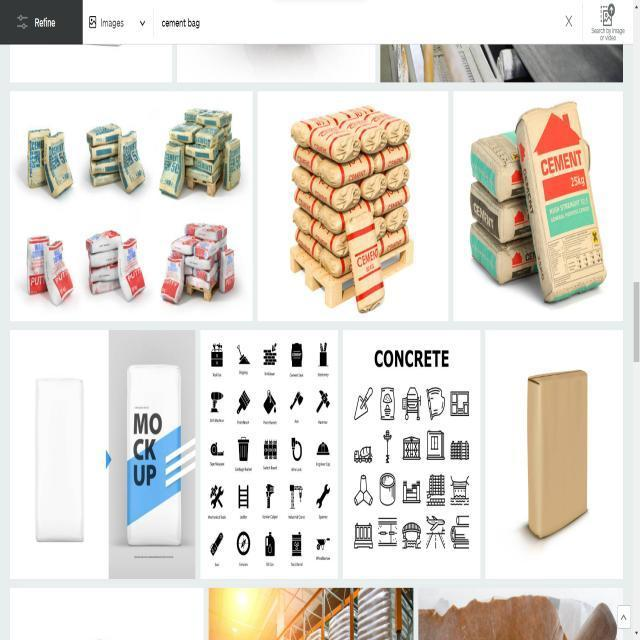gunny_bag: (516, 100, 608, 301), (471, 221, 539, 284), (346, 210, 385, 312), (471, 130, 525, 201), (471, 180, 532, 242), (291, 111, 361, 161), (294, 145, 376, 187), (292, 165, 361, 211), (345, 104, 411, 145), (308, 124, 361, 162), (42, 130, 72, 197), (320, 152, 375, 187), (43, 240, 73, 304), (117, 237, 145, 300), (340, 117, 388, 153), (118, 129, 144, 192), (310, 219, 349, 257), (159, 140, 184, 196), (27, 127, 49, 187), (26, 235, 48, 294), (160, 249, 184, 303), (373, 141, 411, 172), (373, 184, 411, 215), (223, 138, 240, 189), (85, 229, 120, 253), (86, 122, 121, 145), (184, 222, 227, 240), (184, 249, 220, 270), (194, 235, 226, 258), (195, 108, 232, 127), (194, 151, 224, 173), (219, 248, 234, 292), (195, 125, 224, 147), (88, 261, 118, 282), (194, 223, 227, 241), (89, 154, 118, 174), (88, 140, 118, 159), (88, 248, 118, 267), (88, 279, 120, 294), (89, 170, 120, 185)
